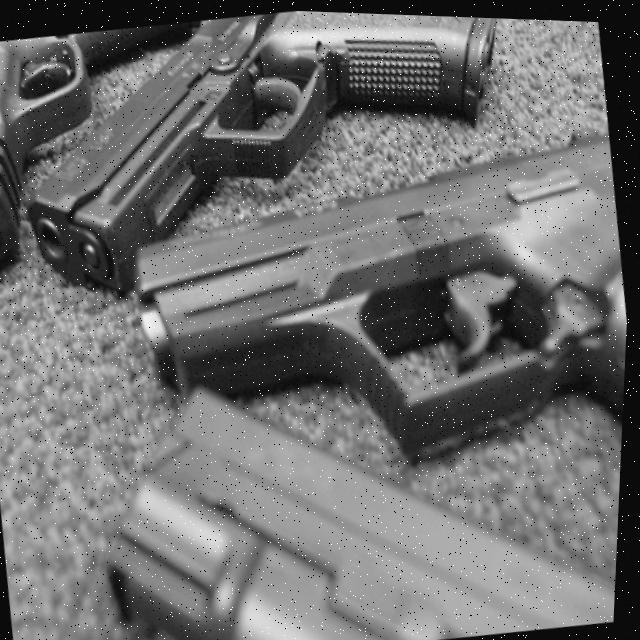pistol: (113, 105, 636, 505), (82, 321, 629, 640), (0, 0, 534, 325), (0, 13, 235, 294)
